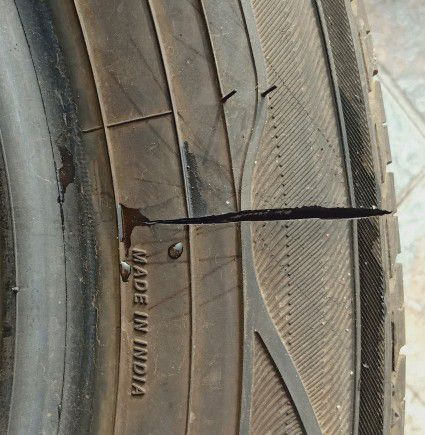cut: (118, 198, 398, 259), (54, 144, 77, 233)
